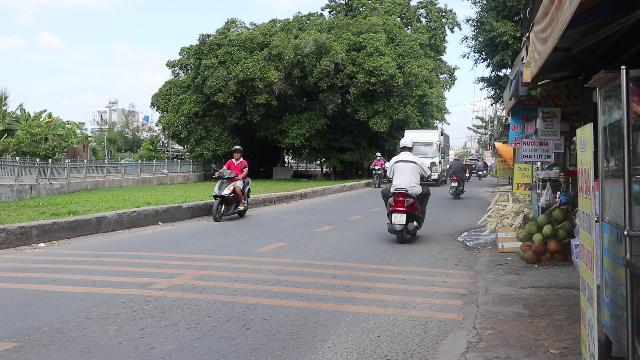helmet: (397, 138, 413, 152), (231, 144, 243, 160)
licenseplate: (392, 214, 406, 224)
motorcyclist: (380, 138, 430, 243), (210, 145, 252, 221)
